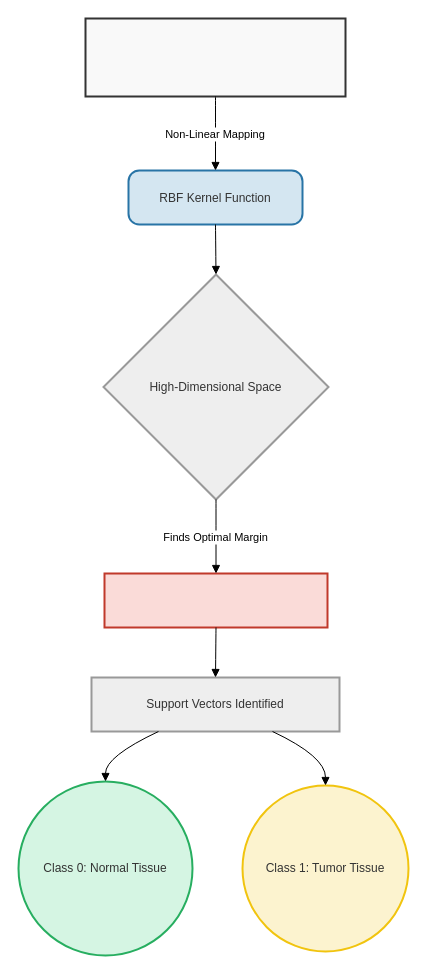
Some shapes in this 426 by 973 pixel diagram are drawn without their labels. The box of each missing label's shape, as (x1, y1, x2, y2) in pixels:
Input: Genomic Feature Space: (84, 17, 346, 97)
Separating Hyperplane: (103, 572, 328, 628)
